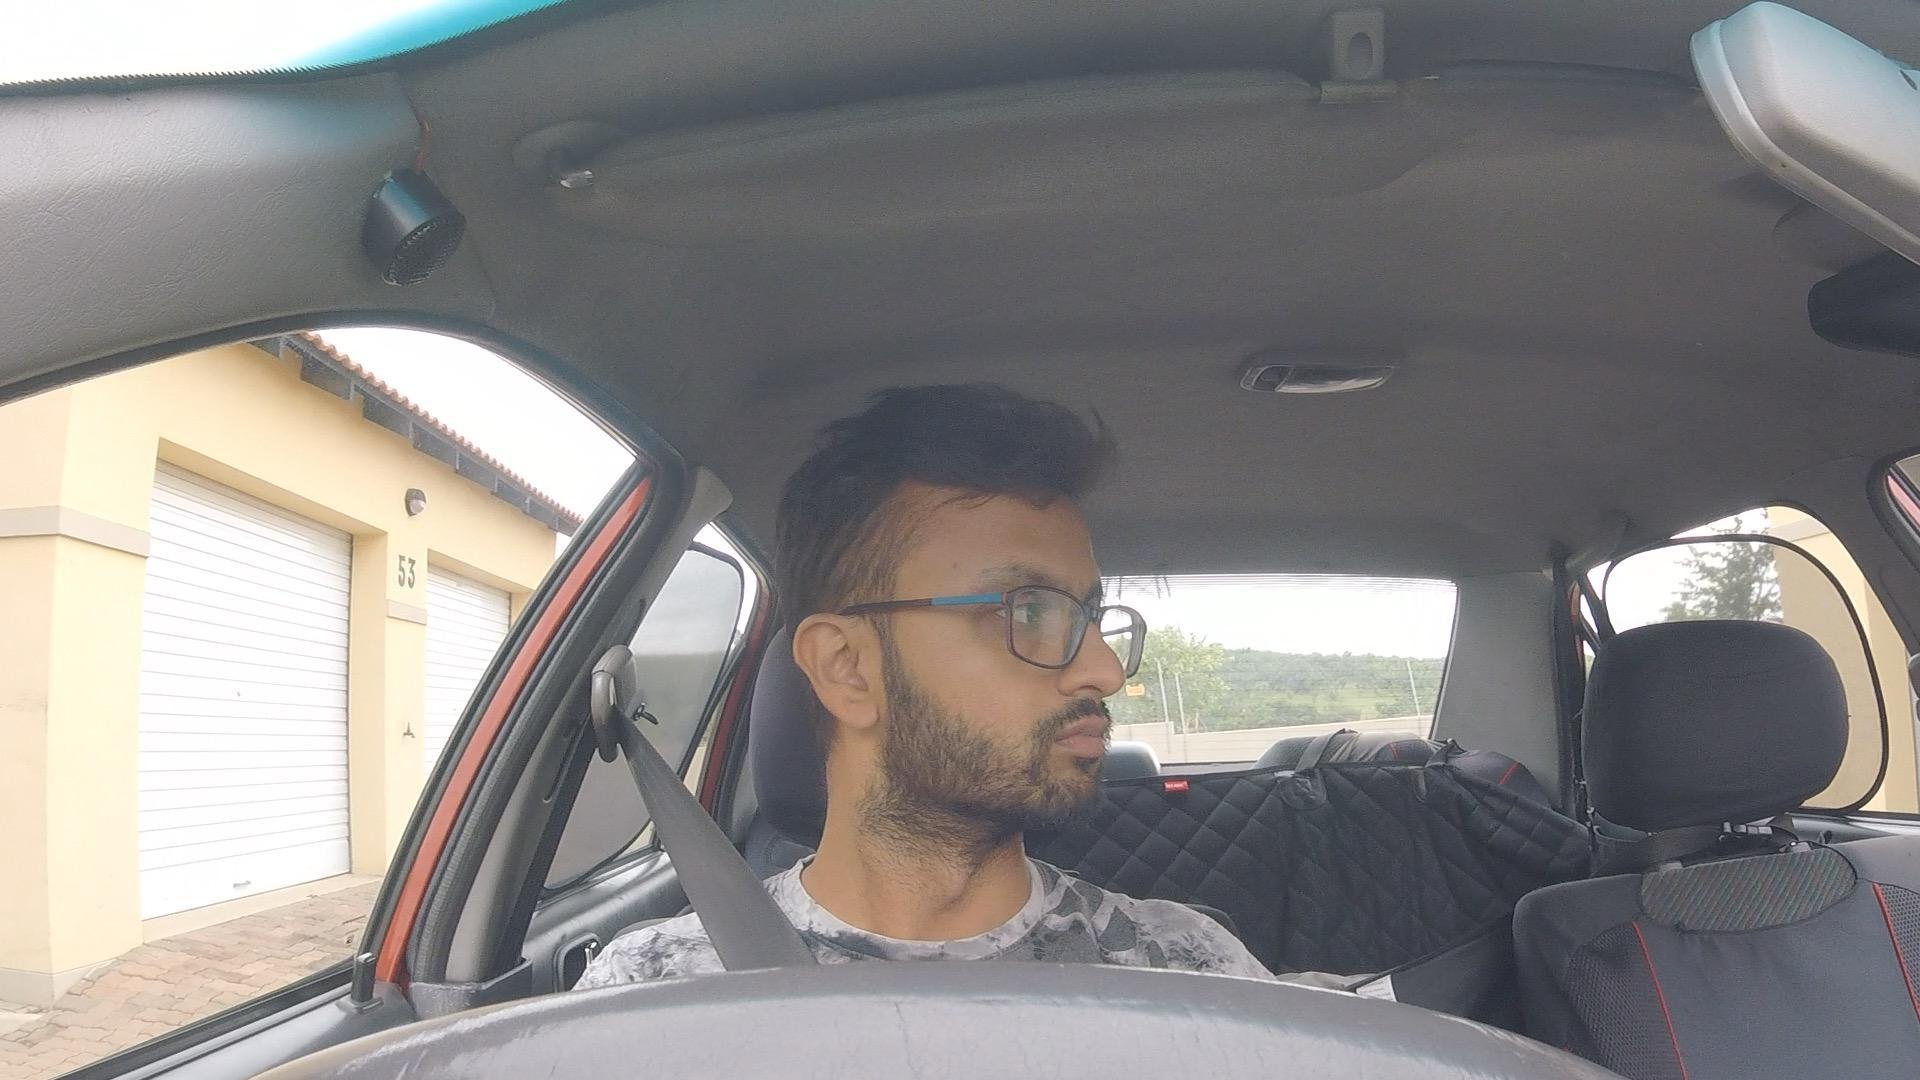SafeDriving: (767, 377, 1154, 851)
